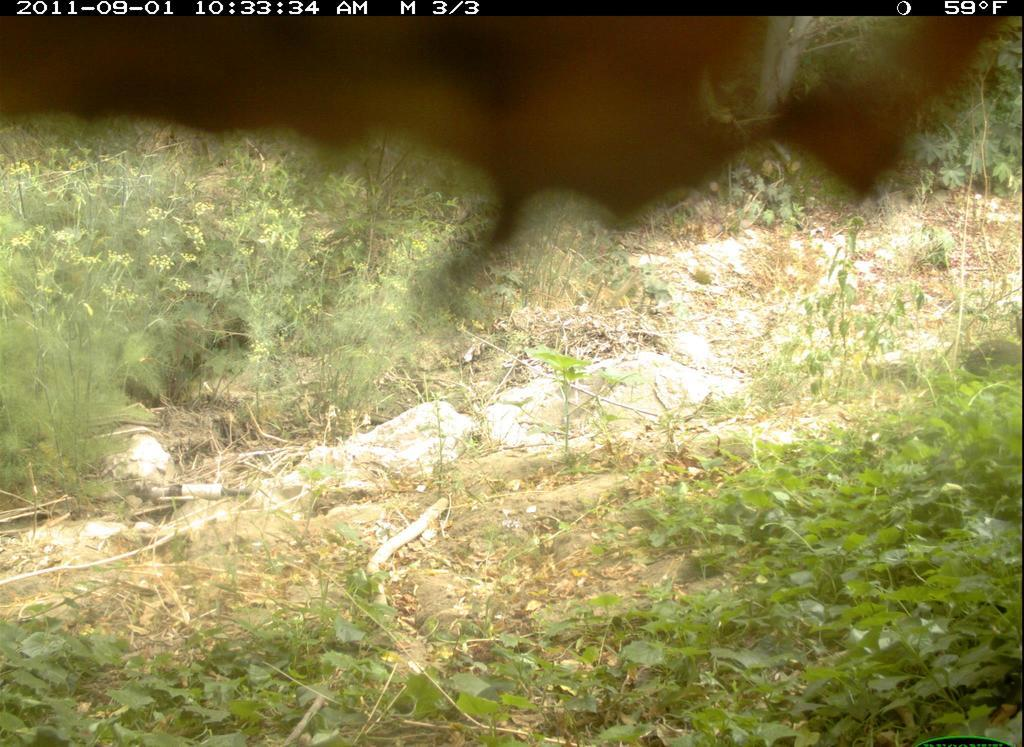rabbit: (958, 331, 1022, 382)
